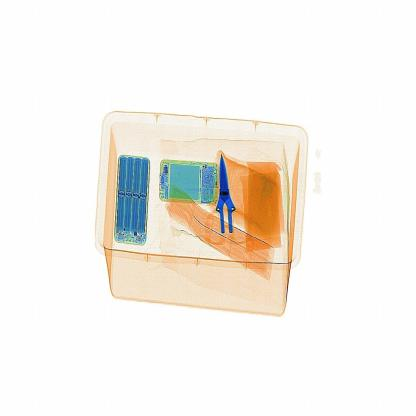gun: (199, 145, 241, 248)
